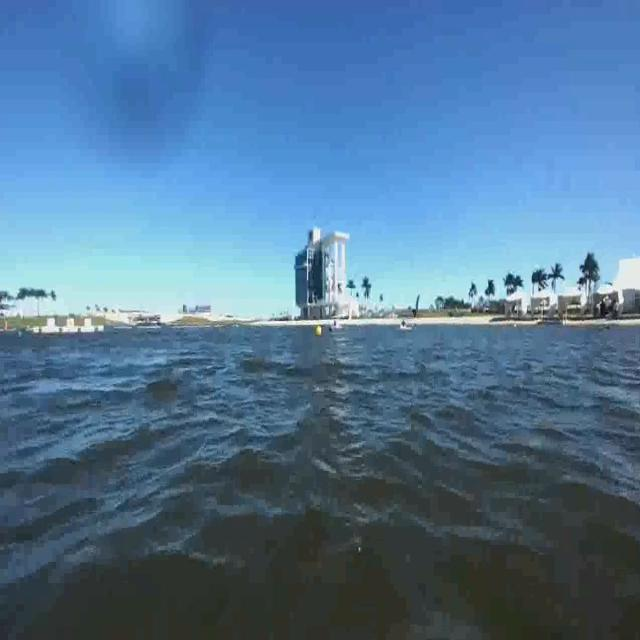yellow-buoy: (315, 323, 324, 337)
